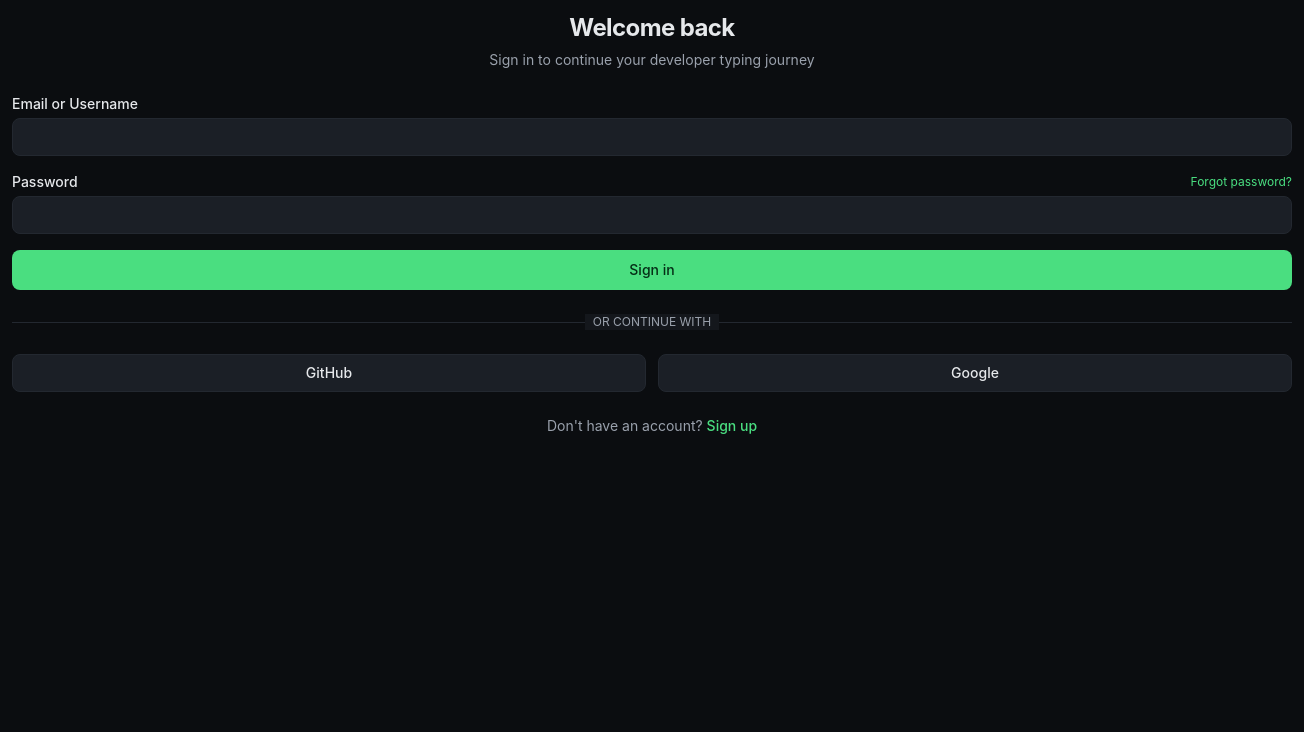
LoginPage Component › displays error alert on invalid credentials
The width and height of the screenshot is (1304, 732).
Type "wronguser" into the field labelled "Email or Username" at (652, 137), box [12,118,1292,156]
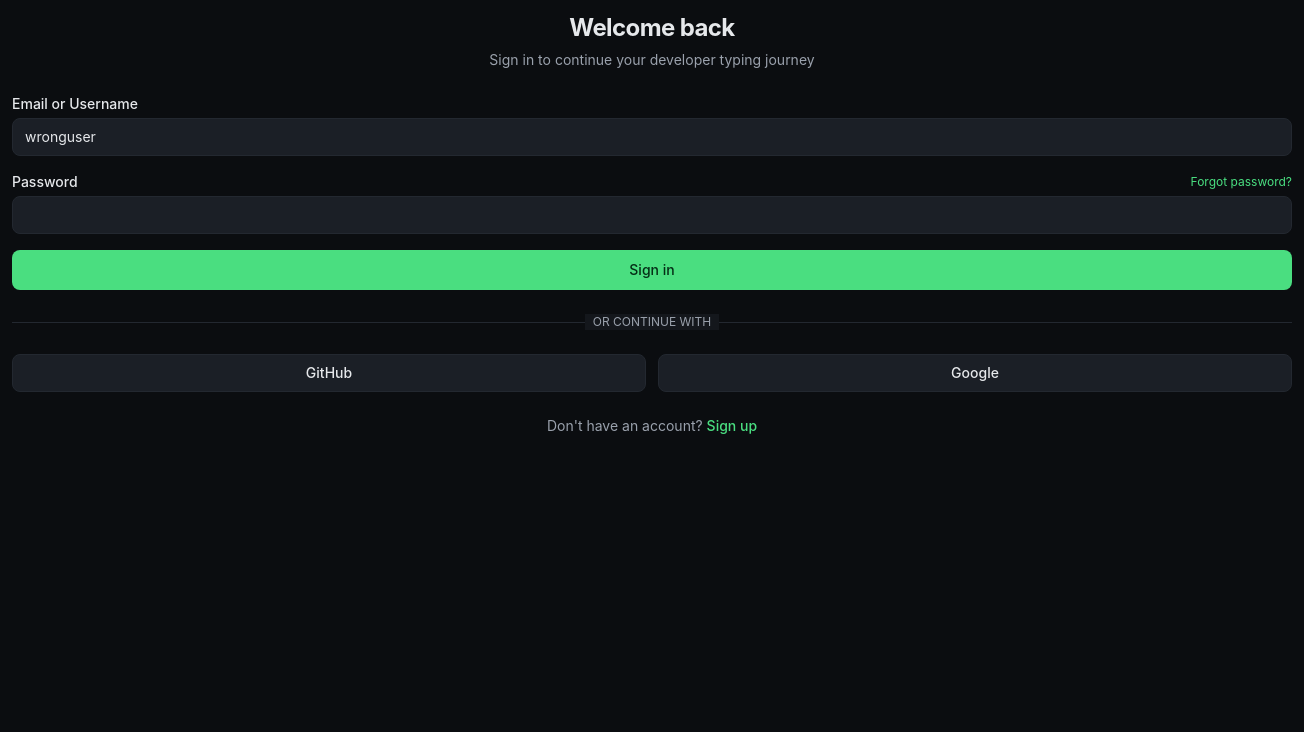
Type "wrongpass" into the password field labelled "Password" at (652, 215), box [12,196,1292,234]
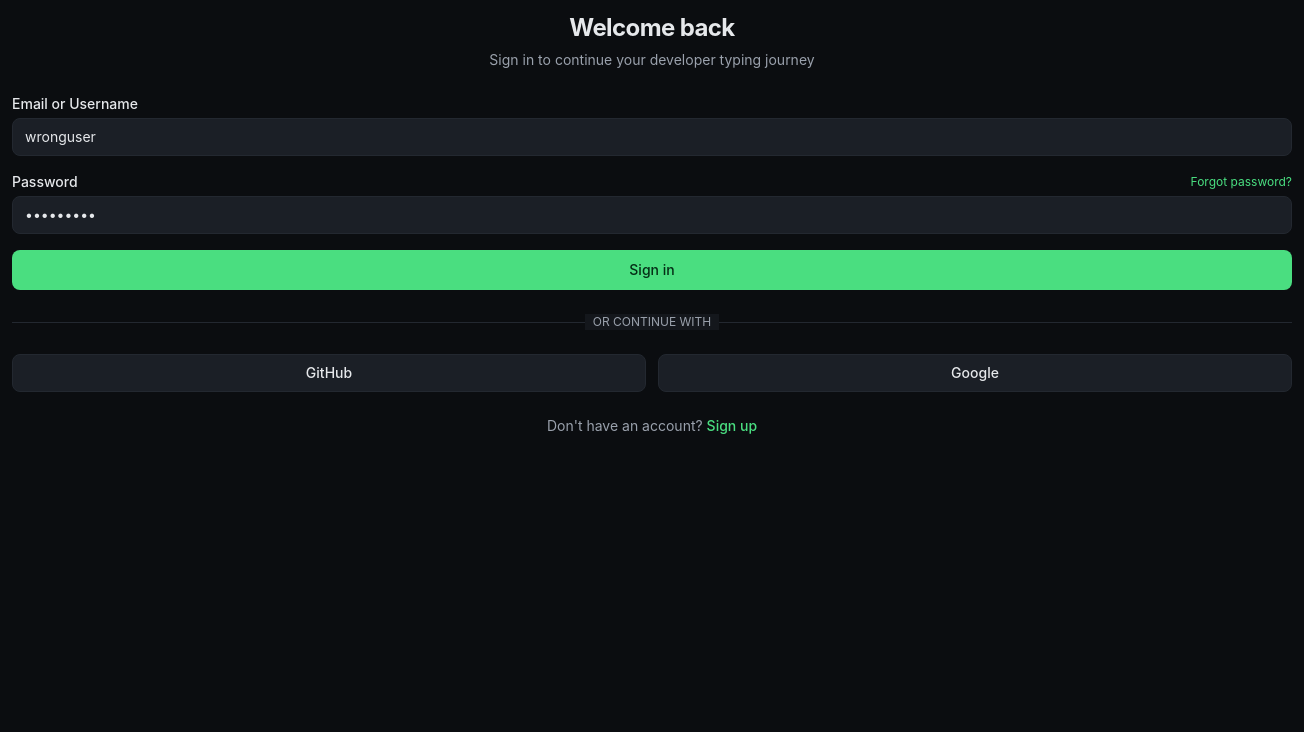
Click the button "Sign in" at (652, 270), box [12,250,1292,290]
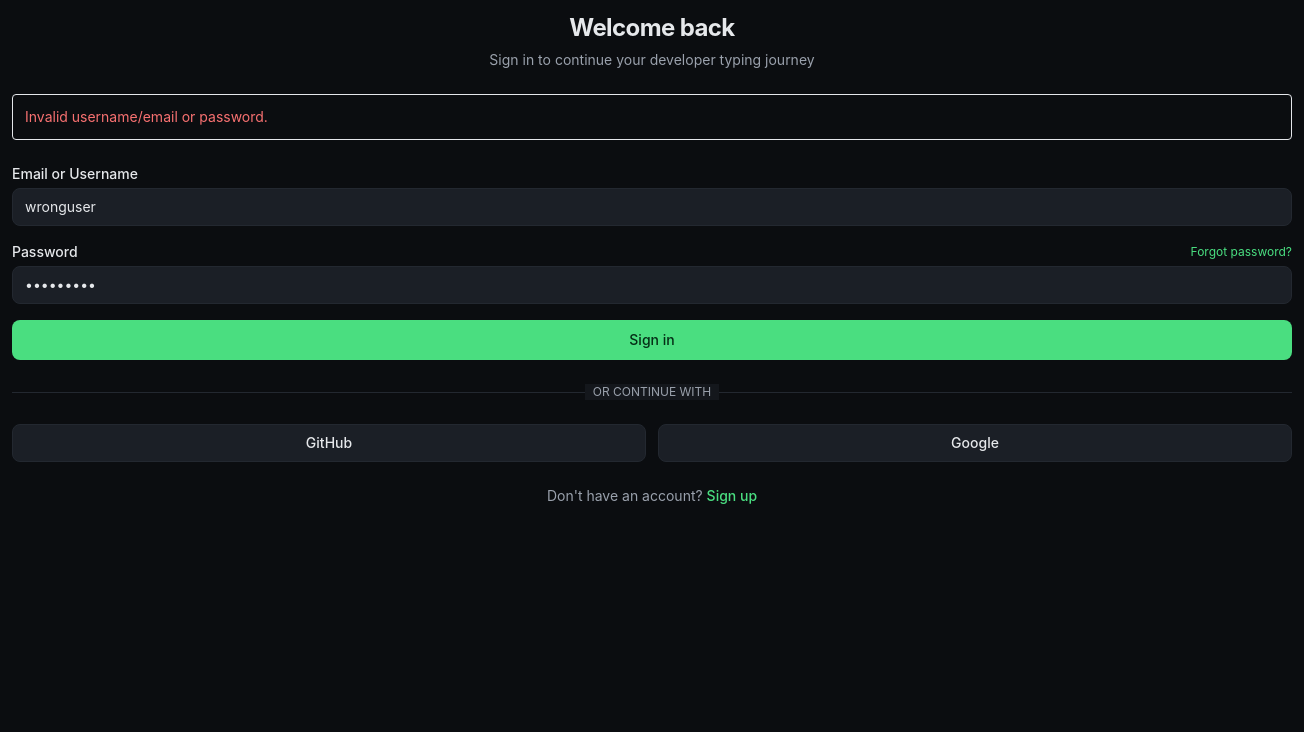
Now the message "Invalid username/email or password." is shown, box [12,94,1292,140]
